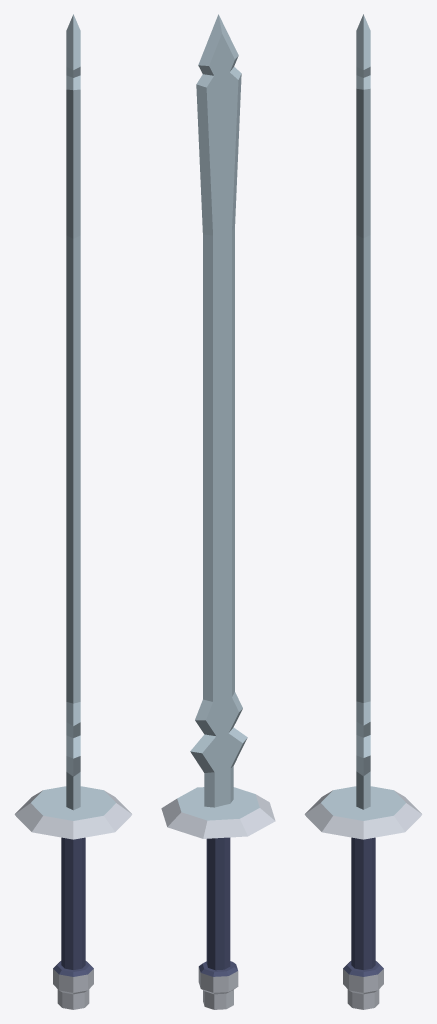
3 renders of one model, left to right at view 1: azimuth 90°, elevation 25°; view 2: azimuth 210°, elevation 25°; view 3: azimuth 270°, elevation 25°, orthographic.
Size of the model in its own units: 0.1084 by 1 by 0.1084.
